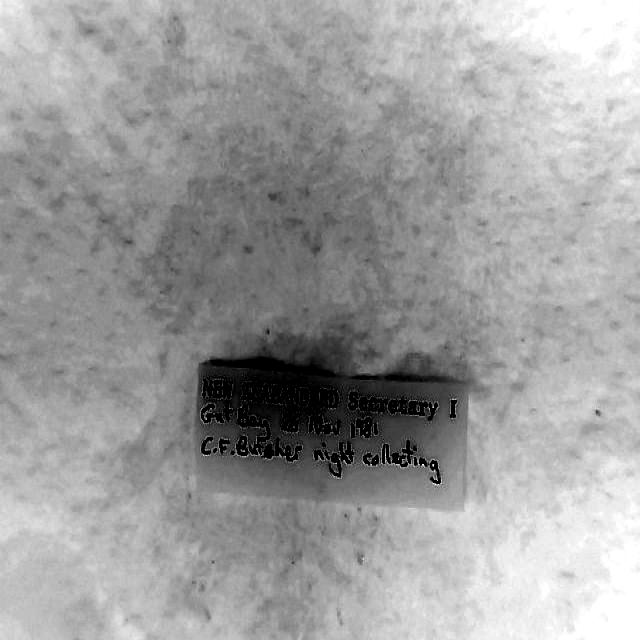mixed_label: (196, 362, 468, 508)
